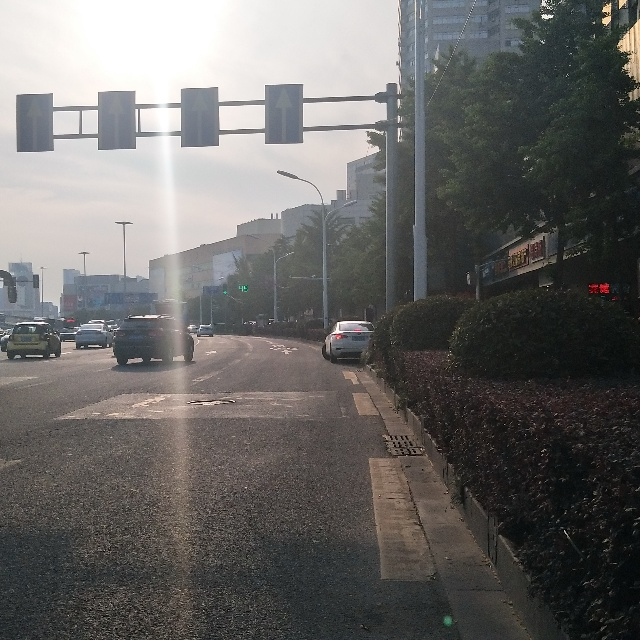straight: (178, 85, 226, 152), (12, 88, 58, 155), (97, 87, 139, 160), (266, 82, 310, 148)
